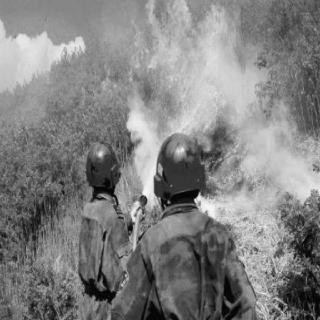Smoke: (122, 111, 154, 179), (221, 60, 253, 102)
other: (78, 130, 258, 318)
